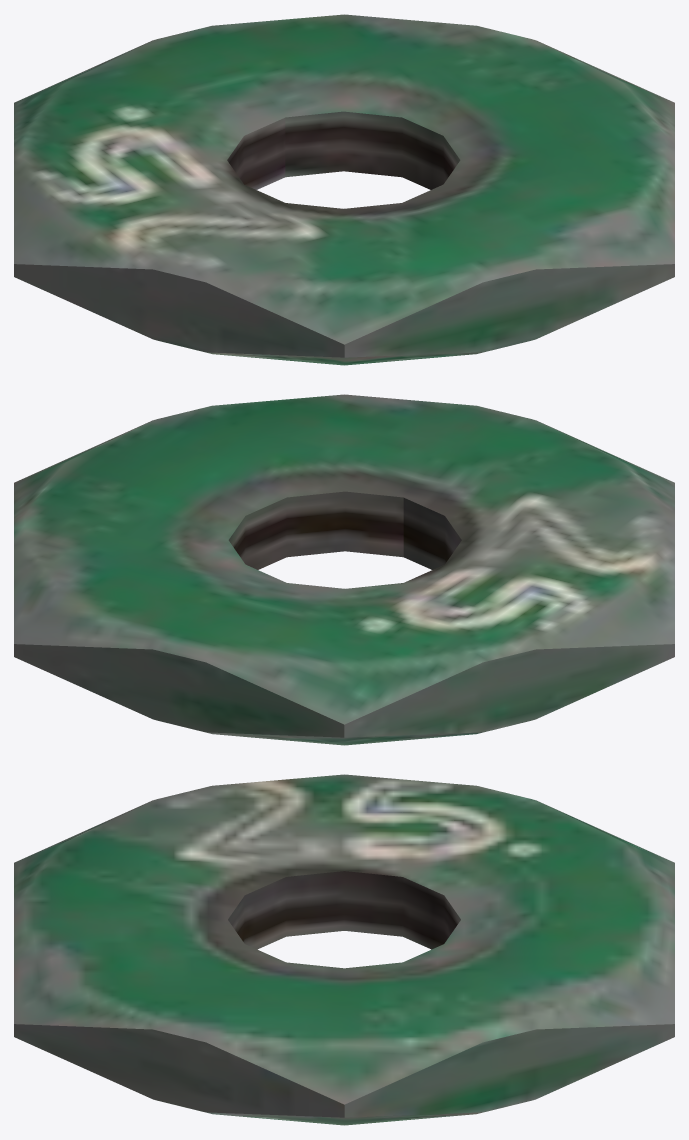
The model's file is poker_chip_v25_green.glb.
The picture shows the model from 3 angles, top to bottom: view 1: azimuth 30°, elevation 25°; view 2: azimuth 150°, elevation 25°; view 3: azimuth 270°, elevation 25°; orthographic projection.
Visible parts, largest first — view 1: v25_green_LOD0; view 2: v25_green_LOD0; view 3: v25_green_LOD0.
Part boxes in pixels (left/top/right/bottom): v25_green_LOD0: left=14, top=14, right=674, bottom=365; v25_green_LOD0: left=14, top=394, right=674, bottom=745; v25_green_LOD0: left=14, top=774, right=674, bottom=1125.
Size of the model in its own units: 0.0459 by 0.00536 by 0.0397.
Materials: 1 (1 with a texture image).
